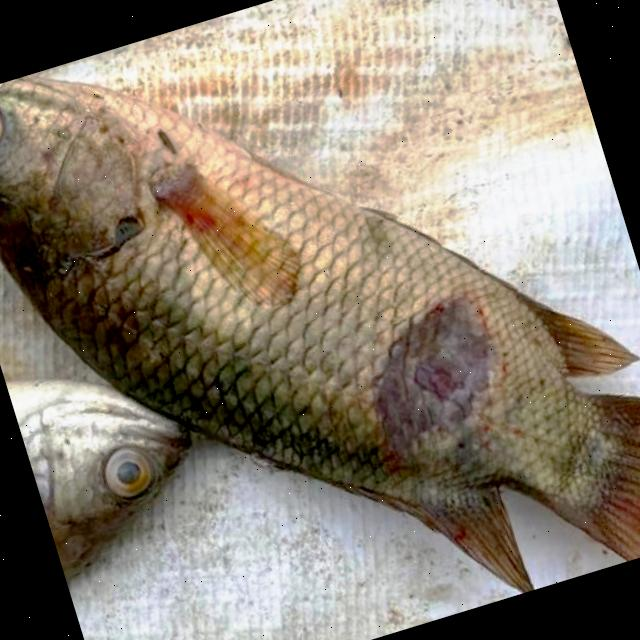Columnaris Disease: (0, 77, 640, 592), (6, 379, 187, 565)
